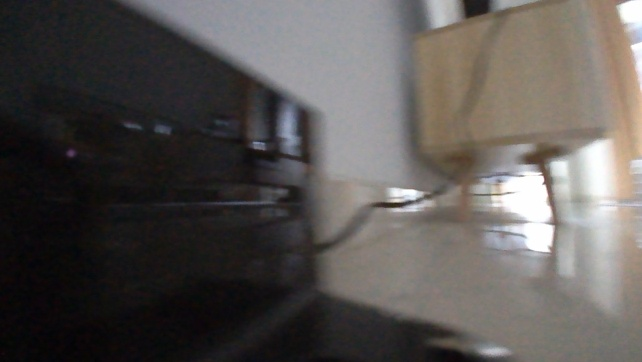wire: (321, 184, 438, 250)
